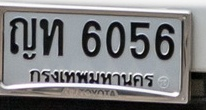txt10: (7, 16, 38, 61)
txt18: (39, 17, 65, 58)
